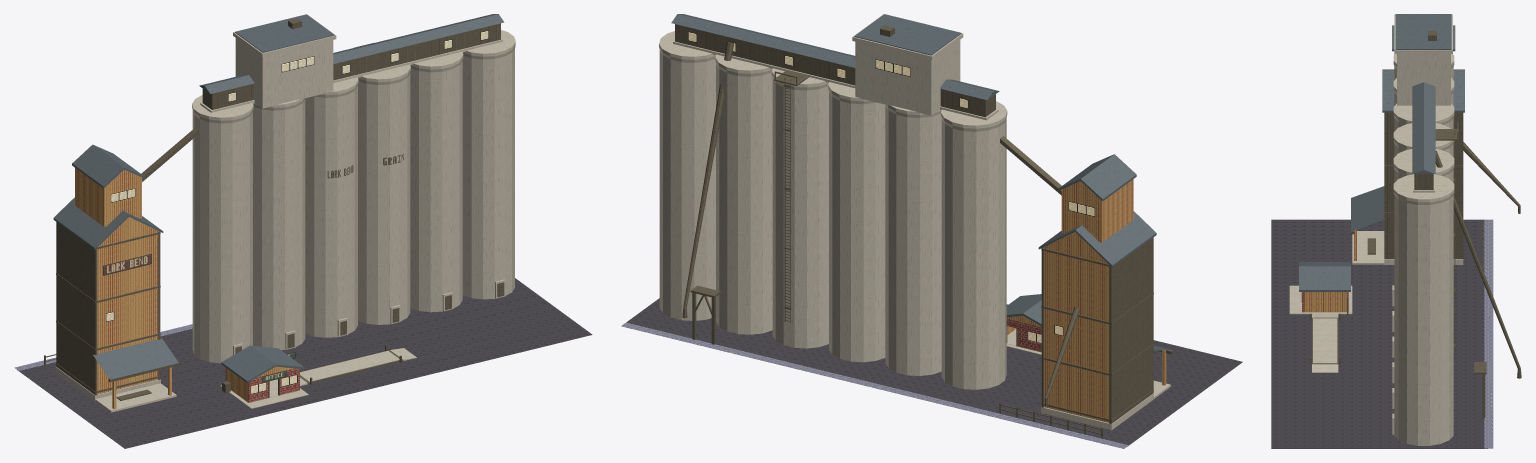
File: lark-bend-1950.glb
3 renders of one model, left to right at view 1: azimuth 30°, elevation 25°; view 2: azimuth 150°, elevation 25°; view 3: azimuth 270°, elevation 25°, orthographic. The views are drawn at different scales.
Parts seen in each view (by area): view 1: concrete_elevator, lot, timber_elevator, scale_office; view 2: concrete_elevator, timber_elevator, lot, scale_office; view 3: lot, concrete_elevator, timber_elevator, scale_office.
Part boxes in pixels (bbox=[...]): concrete_elevator: bbox=[192, 14, 515, 363]; lot: bbox=[14, 278, 592, 448]; timber_elevator: bbox=[53, 127, 198, 412]; scale_office: bbox=[221, 345, 304, 402]; concrete_elevator: bbox=[659, 14, 1007, 389]; timber_elevator: bbox=[1000, 136, 1172, 430]; lot: bbox=[621, 298, 1242, 448]; scale_office: bbox=[1006, 294, 1041, 352]; lot: bbox=[1271, 219, 1493, 448]; concrete_elevator: bbox=[1391, 14, 1521, 445]; timber_elevator: bbox=[1351, 25, 1520, 264]; scale_office: bbox=[1299, 262, 1350, 312].
Size of what is drawn, in the model's own units: 71 by 44.71 by 32.8.
9 materials, 9 textured.
